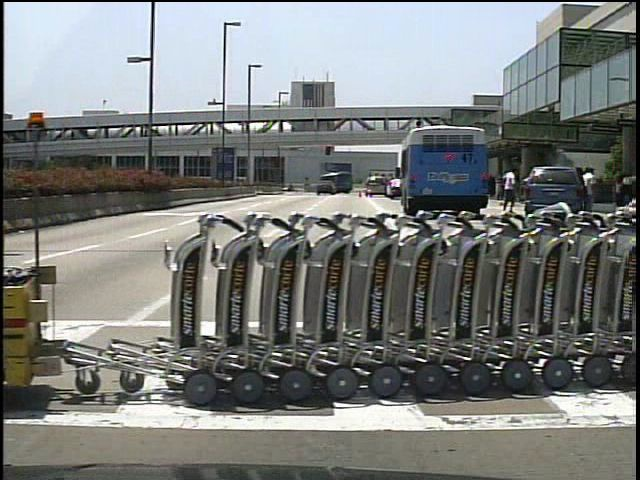person: (580, 165, 601, 214), (518, 168, 537, 215), (499, 166, 517, 215), (573, 165, 588, 219)
